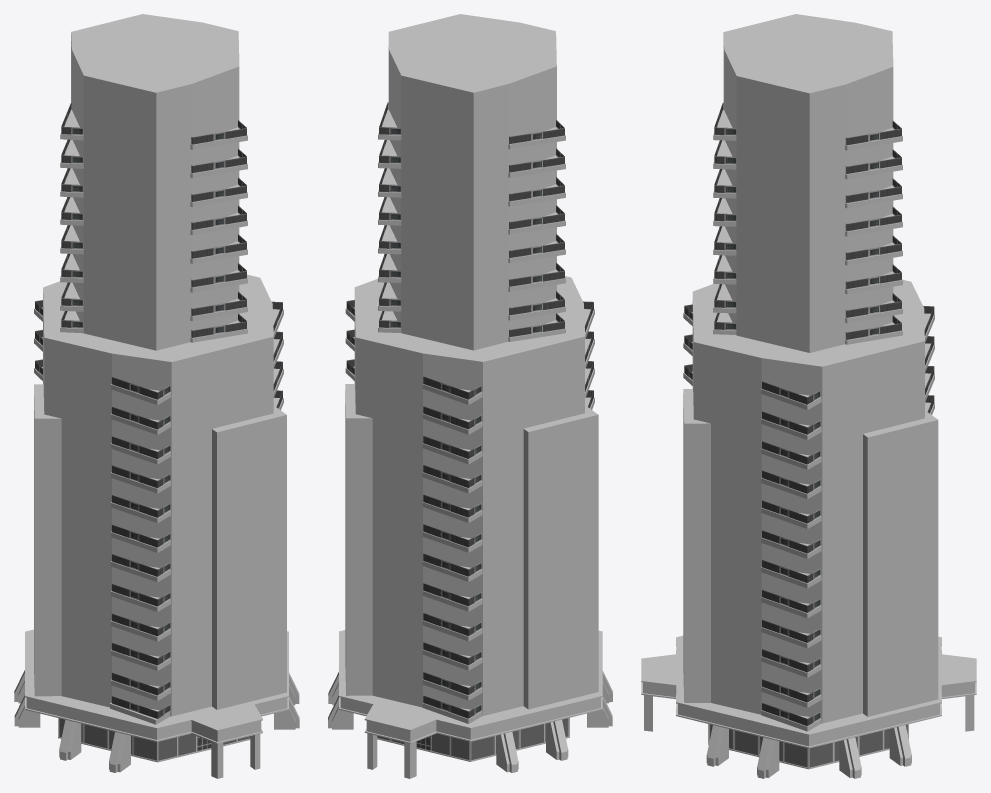
The model's file is building-16.FBX.
3 views of the same model, side by side, from view 1: azimuth 30°, elevation 25°; view 2: azimuth 150°, elevation 25°; view 3: azimuth 270°, elevation 25° (orthographic).
Parts seen in each view (by area): view 1: building-16_LOD0; view 2: building-16_LOD0; view 3: building-16_LOD0.
Boxes of the visible parts, bbox=[...] form: building-16_LOD0: bbox=[14, 14, 299, 778]; building-16_LOD0: bbox=[328, 14, 612, 778]; building-16_LOD0: bbox=[641, 14, 976, 778].
Size of what is drawn, in the model's own units: 1534 by 3679 by 1675.
